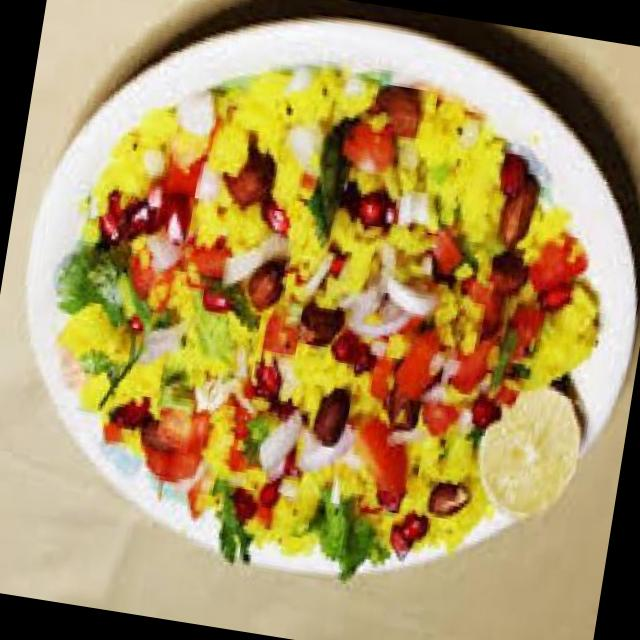poha: (19, 27, 635, 618)
